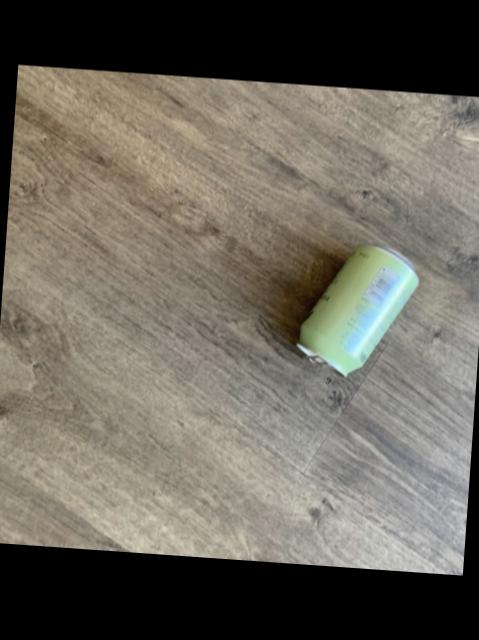metal: (297, 247, 415, 376)
